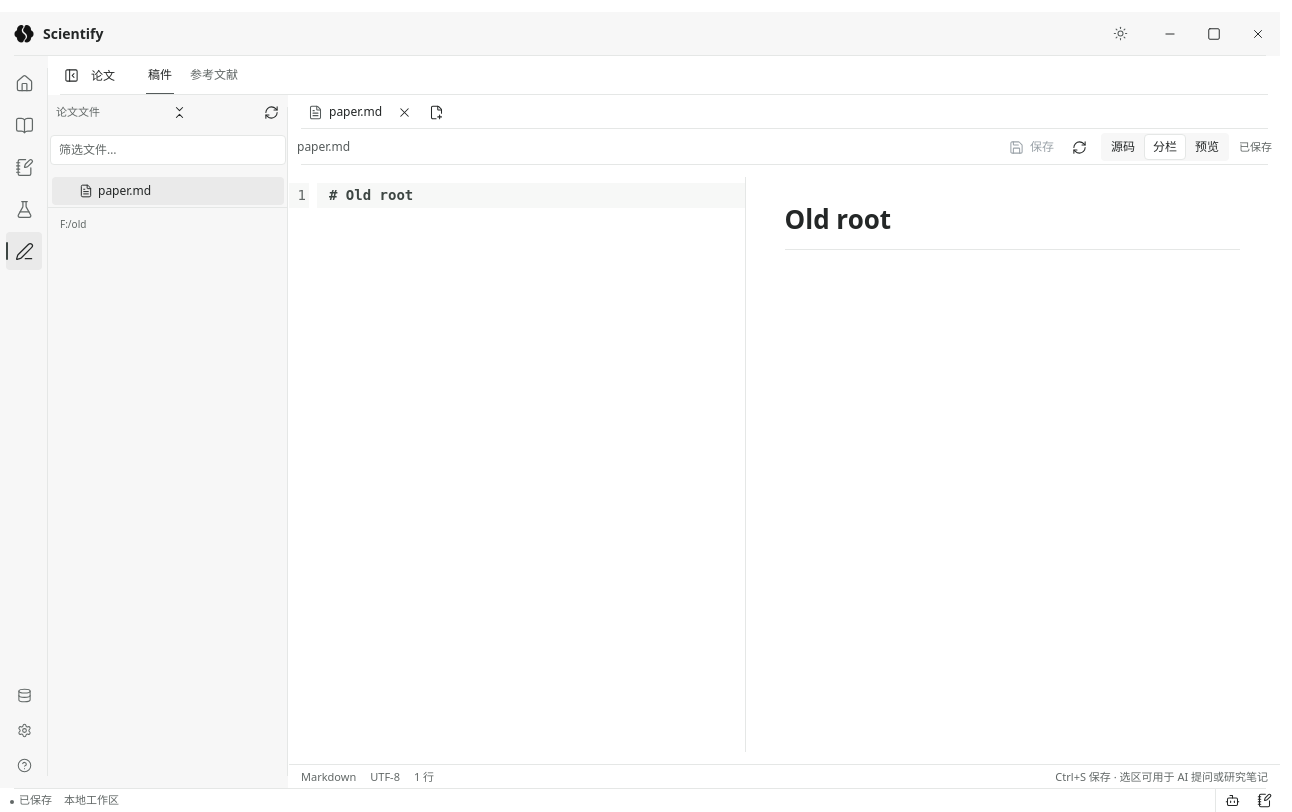
Test case: remembers the code view after opening a changed file and leaving the workspace
Check: the field named "编辑 paper.md" is shown, box [317,183,744,208]
Click the button named "实验": click(24, 209) [6,190,42,228]
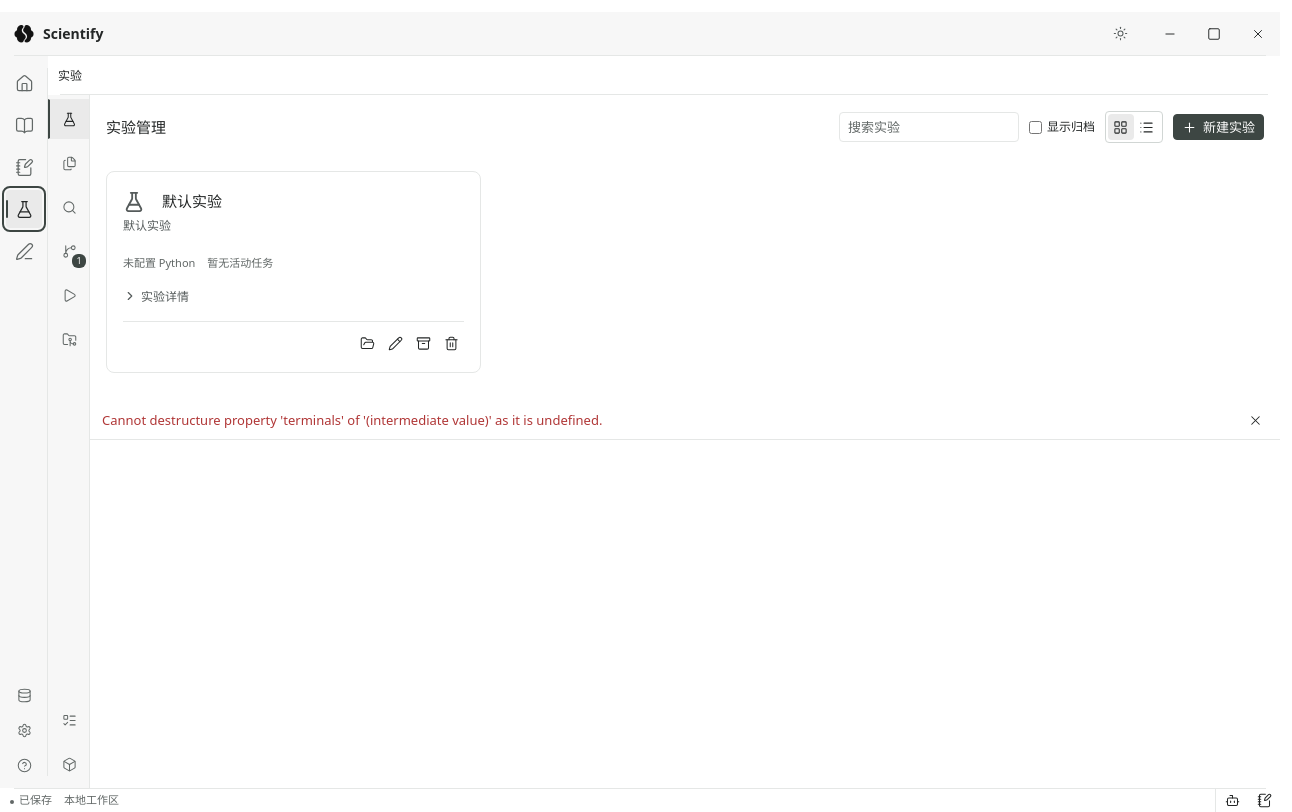
Click the button named "Git": click(68, 251) [48,231,89,271]
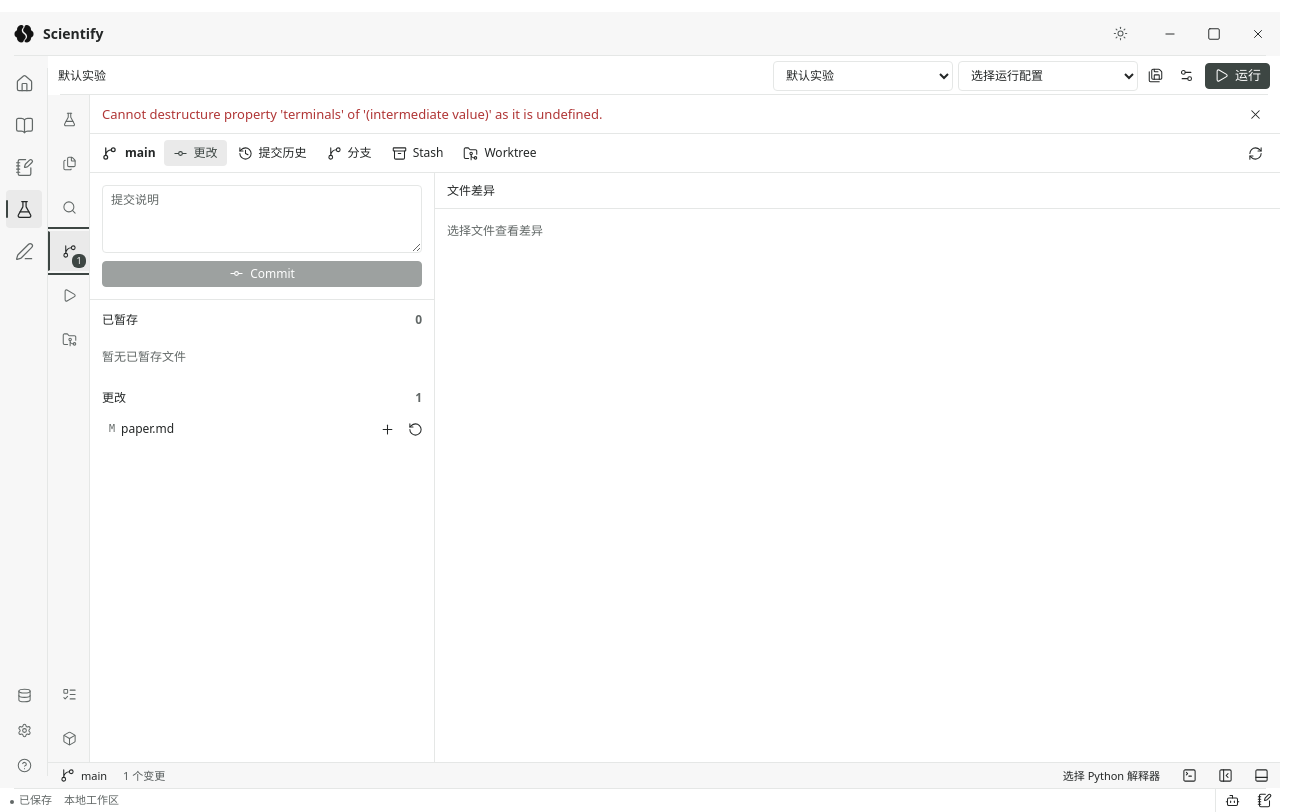
Click the button with aria-label "查看更改 paper.md": click(148, 429) [96,416,372,442]
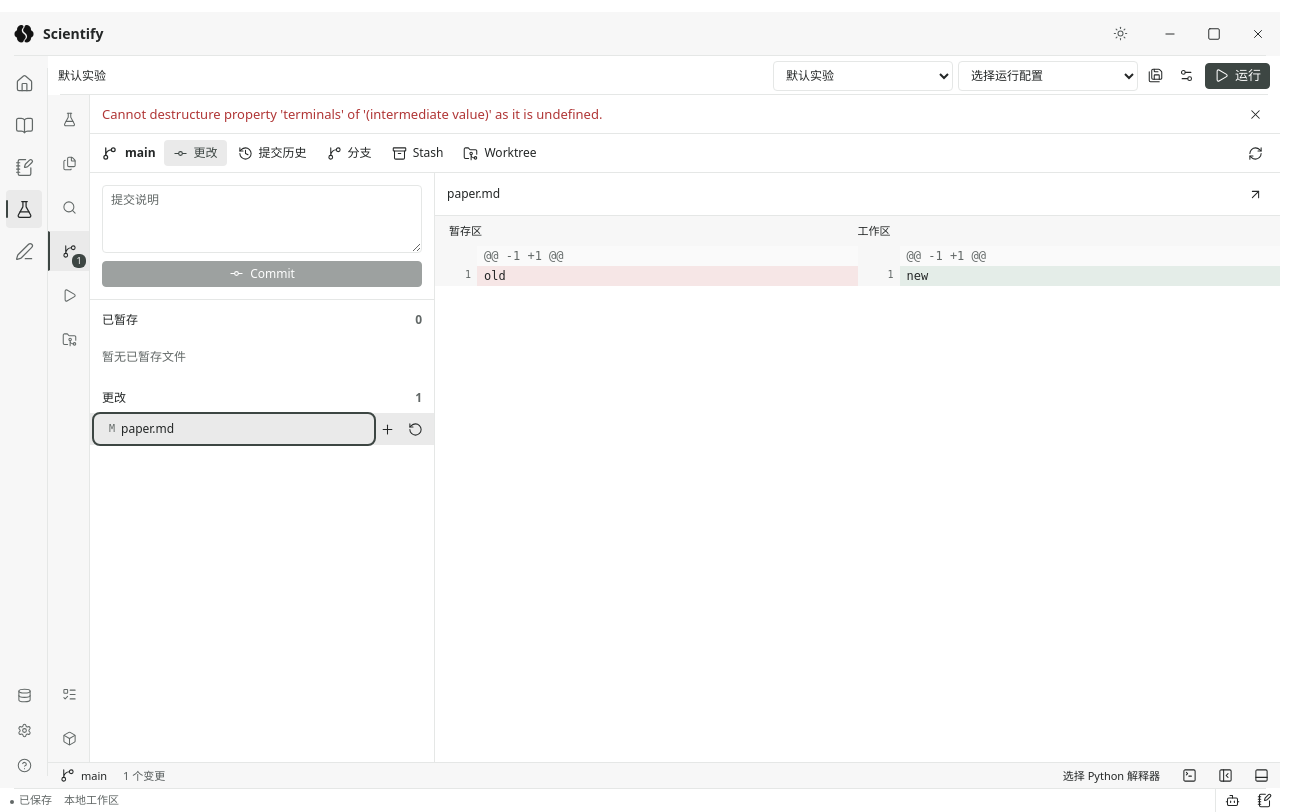
Click the button named "打开文件": click(1255, 194) [1242,181,1268,207]
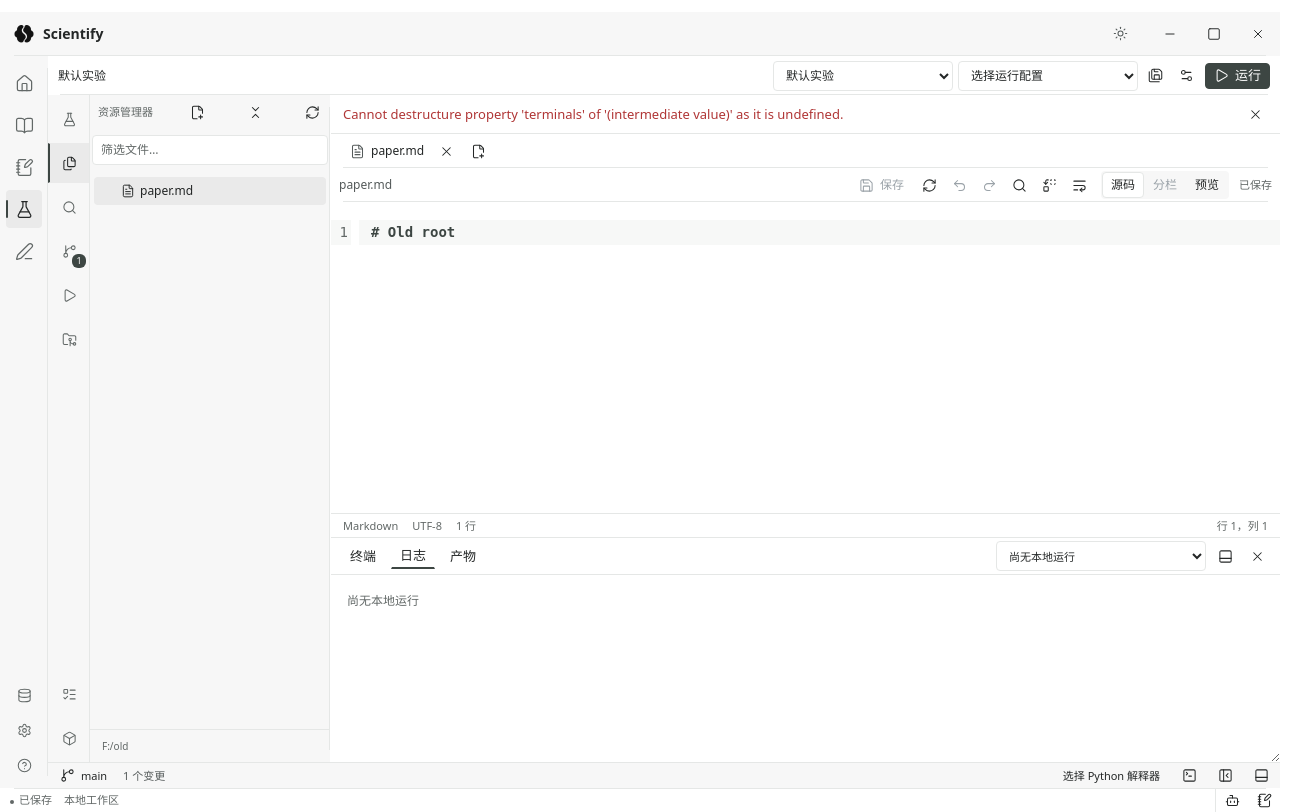
Check: the button named "代码" is marked as current, box [48,143,89,183]
Click the button named "概览": click(24, 83) [6,64,42,102]
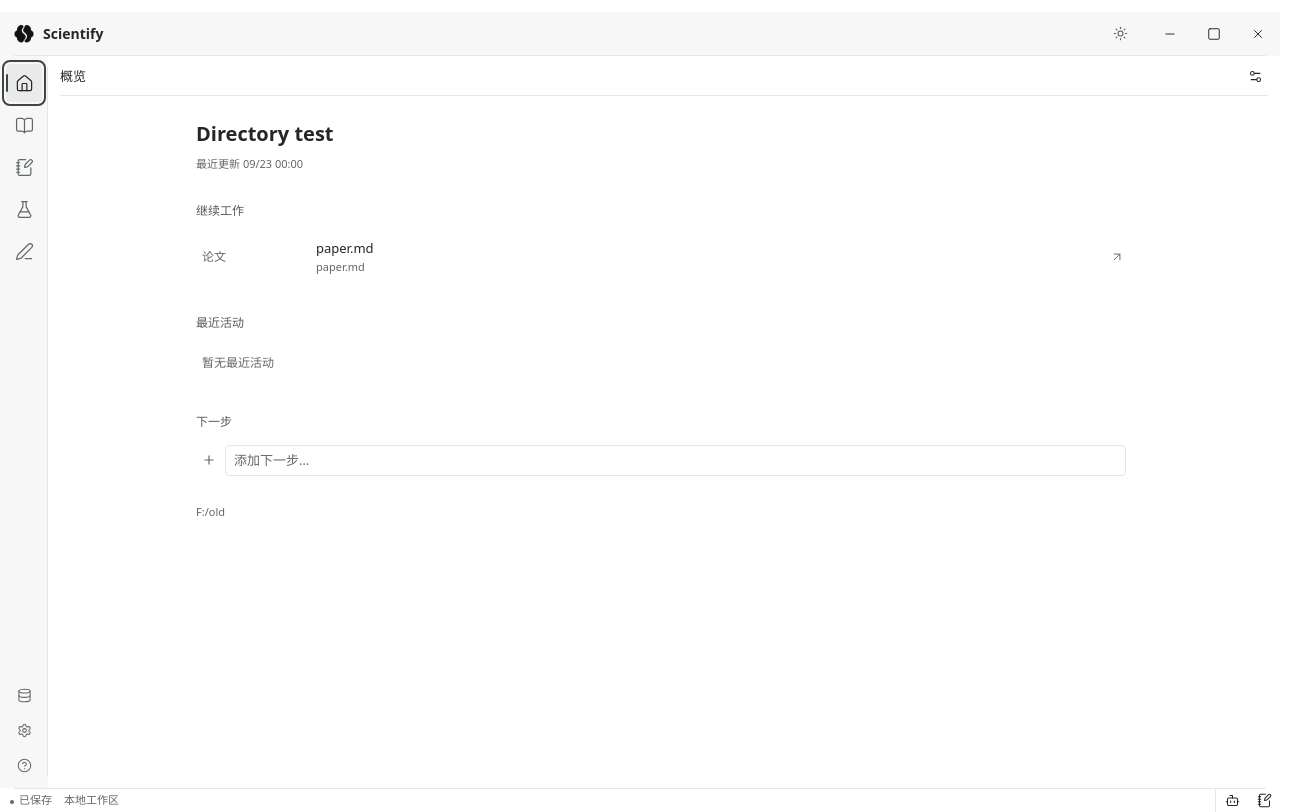
Click the button named "实验": click(24, 209) [6,190,42,228]
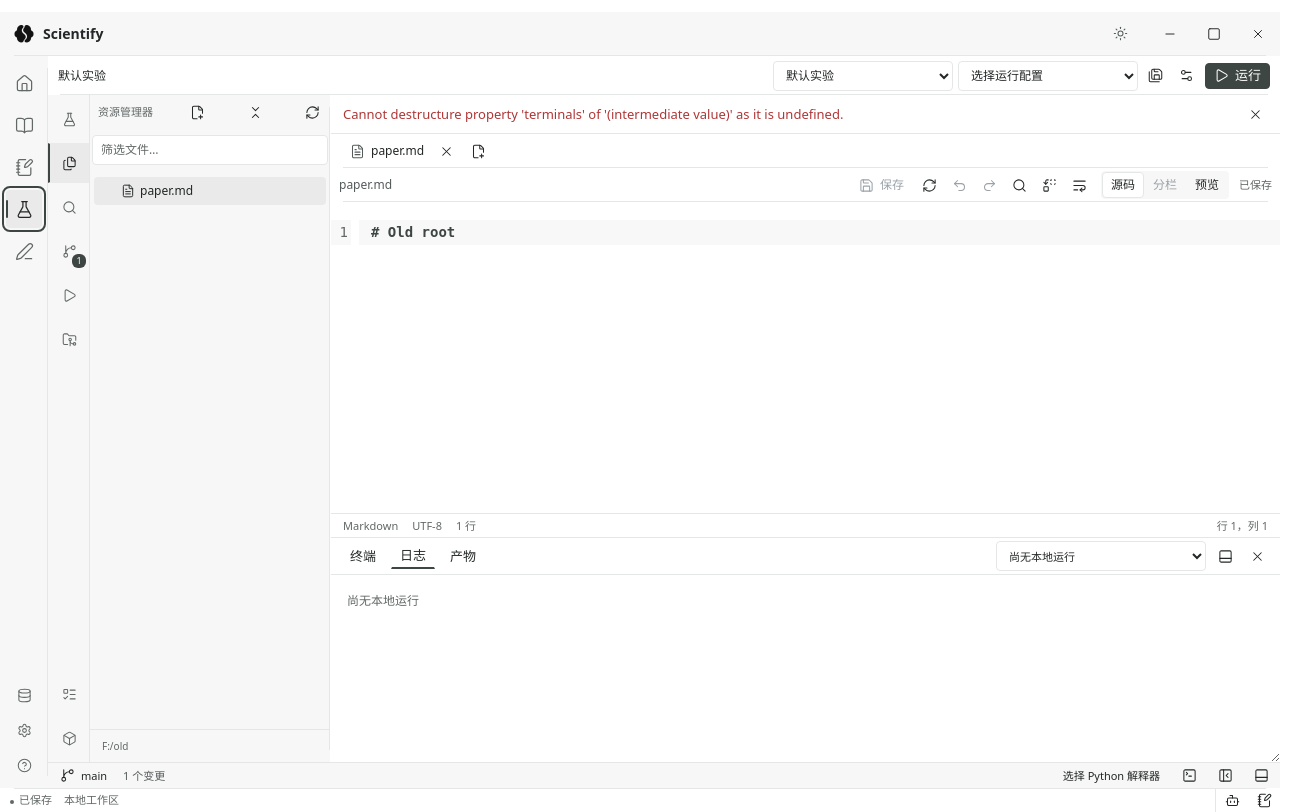
Check: the field named "编辑 paper.md" is shown, box [359,220,1280,245]
